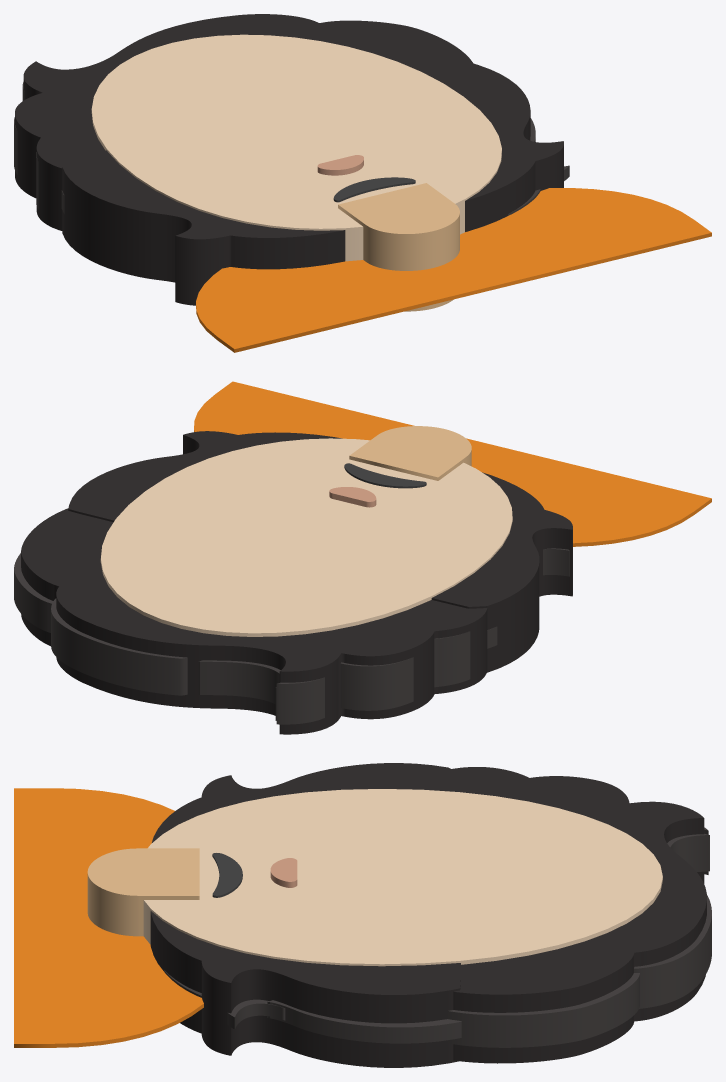
The model's file is emoji_u1f64d_1f3fb.glb.
3 views of the same model, one above another, from view 1: azimuth 30°, elevation 25°; view 2: azimuth 150°, elevation 25°; view 3: azimuth 270°, elevation 25° (orthographic). The views are drawn at different scales.
Visible parts, largest first — view 1: emoji_u1f64d_1f3fb; view 2: emoji_u1f64d_1f3fb; view 3: emoji_u1f64d_1f3fb.
Boxes of the visible parts, x1,y1,x2,y2 form: emoji_u1f64d_1f3fb: (14, 14, 711, 352); emoji_u1f64d_1f3fb: (14, 381, 711, 734); emoji_u1f64d_1f3fb: (14, 763, 711, 1067).
Bounding box in the file's own units: 0.0271 × 0.0044 × 0.0313.
